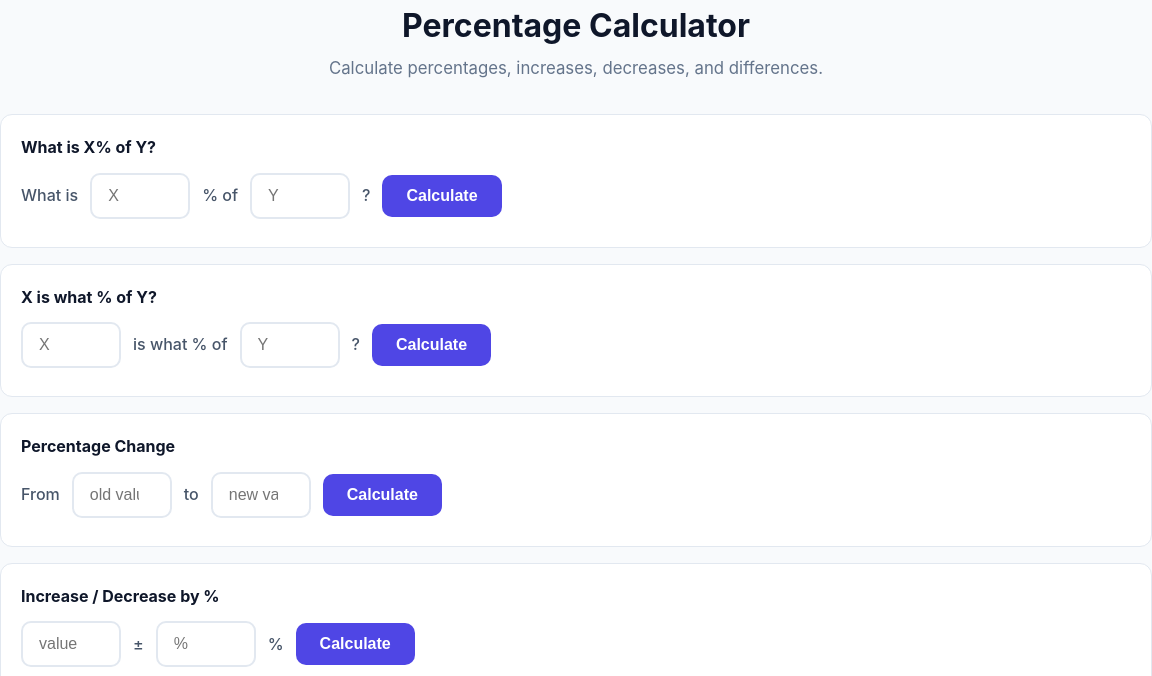
Test: PercentageCalculator › calculates X is what % of Y
In the number field with placeholder "X" below "X is what % of Y?": (71, 345) [21,322,121,368], type "50"
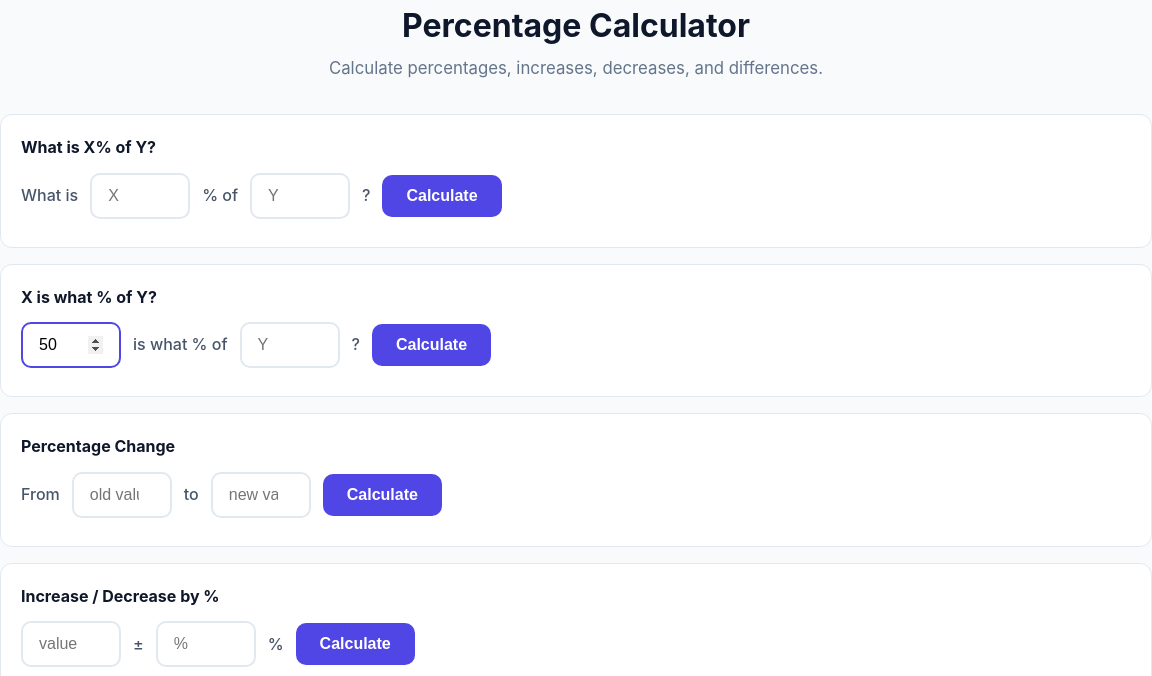
In the number field with placeholder "Y" below "X is what % of Y?": (290, 345) [240,322,340,368], type "200"
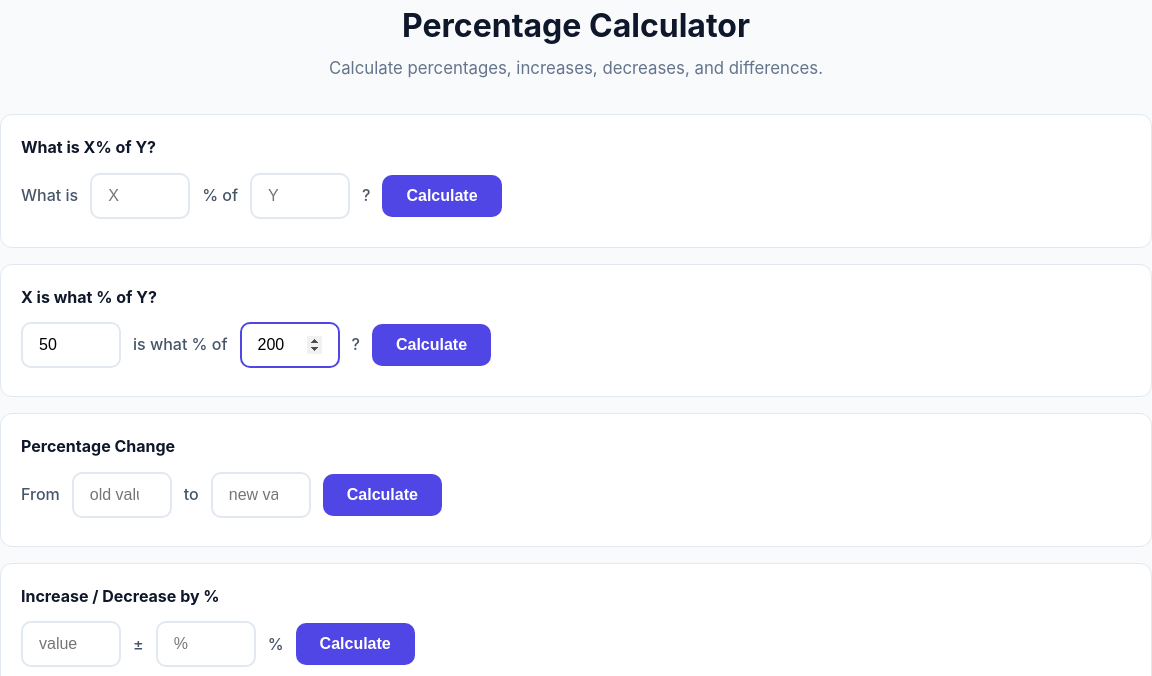
Click the button "Calculate" below "X is what % of Y?": (431, 345) [372,324,491,366]
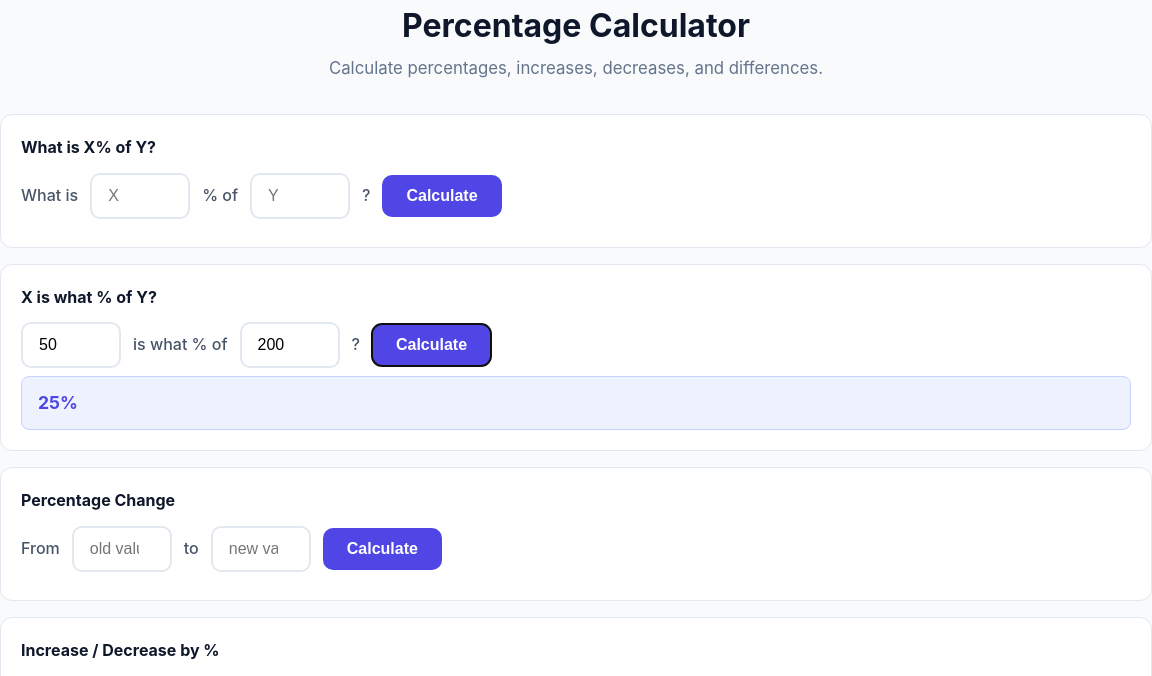
Expected: the text "25%" is shown, [21,376,1131,430]
